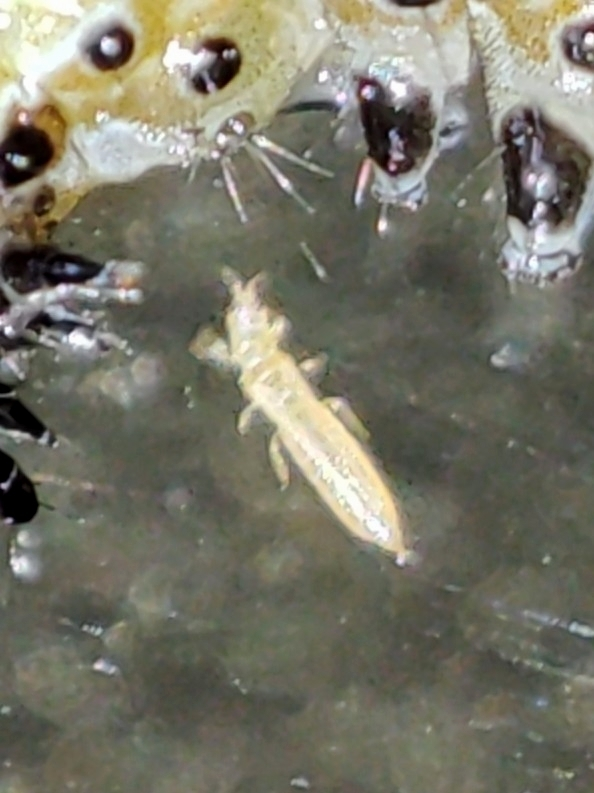tiny_pests: (147, 216, 481, 611)
